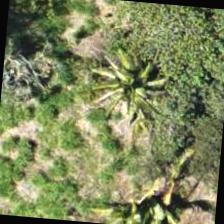Kelapa_Sawit: (78, 32, 176, 130), (96, 152, 194, 223)
